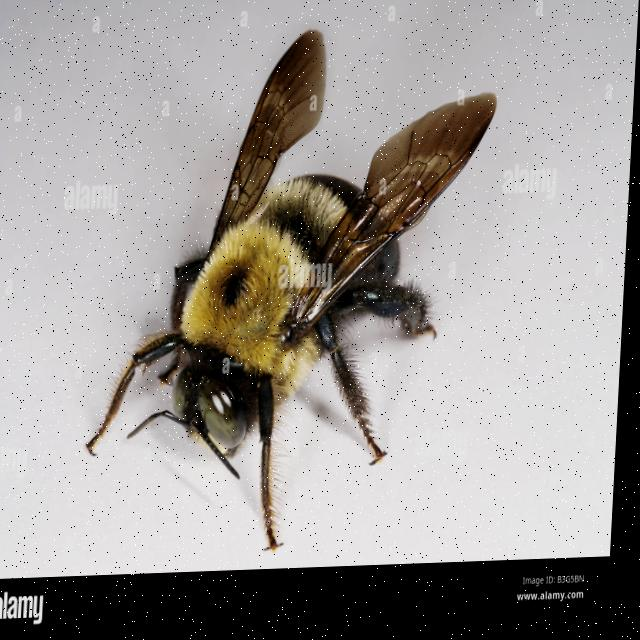Xylocopa: (79, 15, 511, 563)
